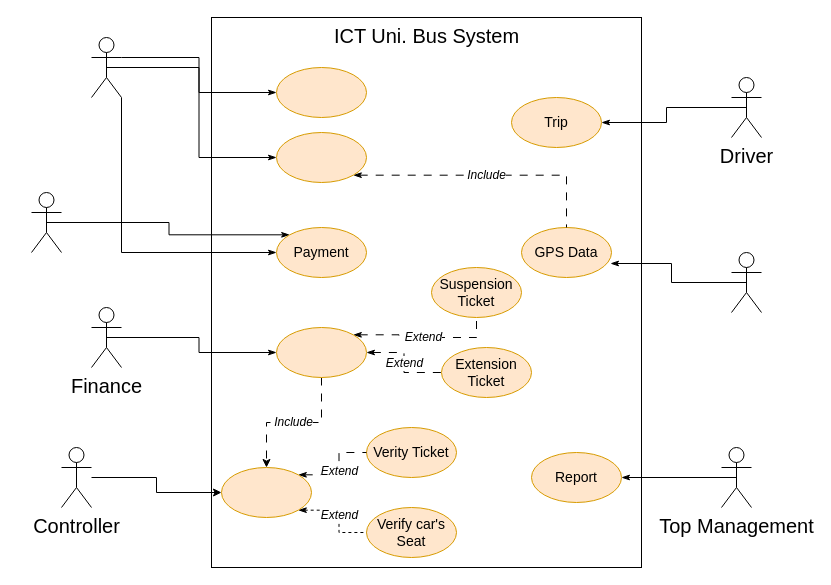
This 831x585 diagram has some shape labels left out. Here are the shapes that lost their labels. From the top down, the centre of each, then its label:
At point 106,67: "Student".
At point 321,92: "Bus Schedule".
At point 321,157: "Bus Tracking".
At point 46,222: "Parent".
At point 746,282: "Vehicle".
At point 321,352: "Ticket".
At point 266,492: "Onboarding".
